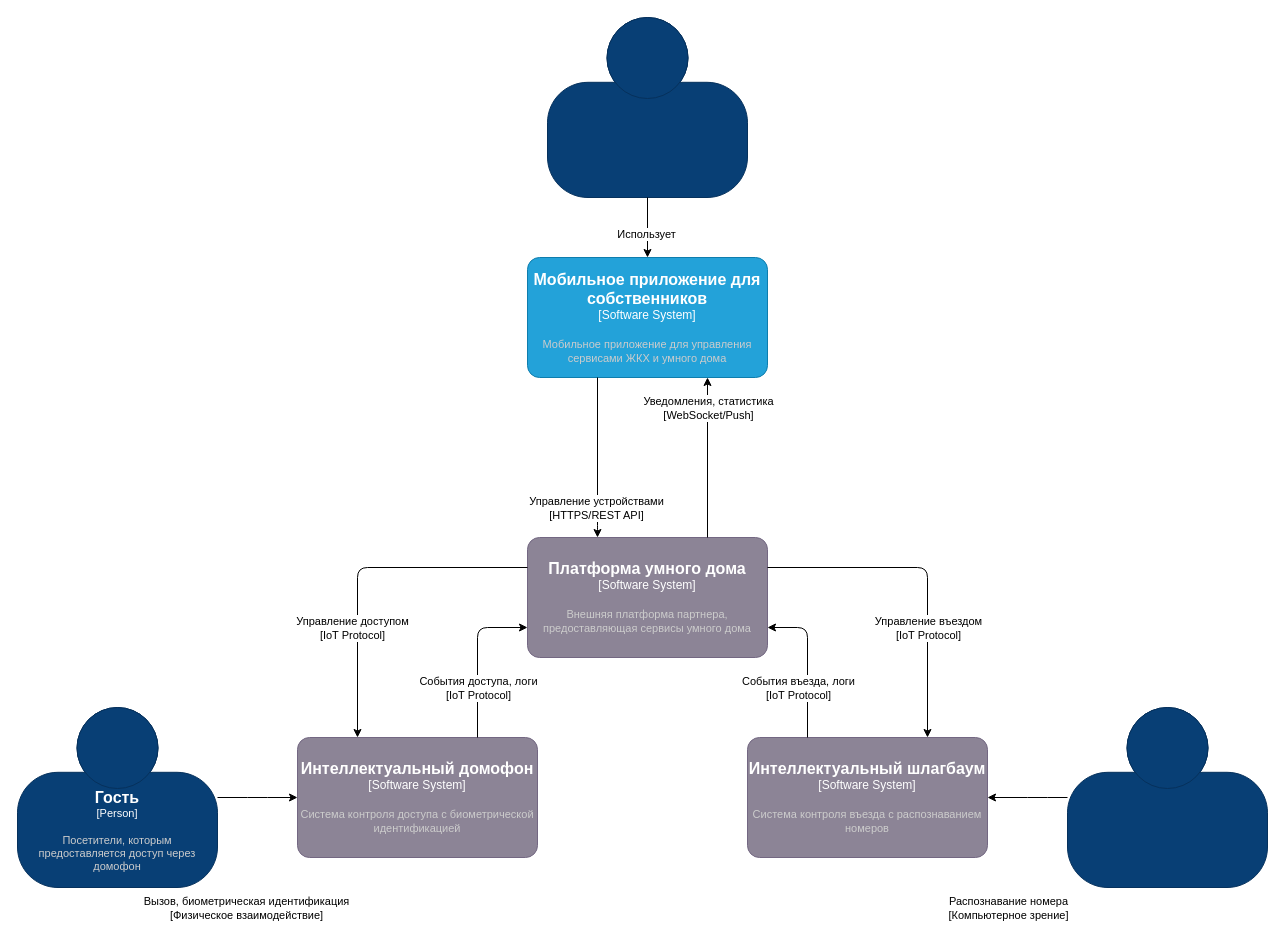
Some shapes in this 1285 by 938 pixel diagram are drawn without their labels. Each missing label, with the centre of its shape:
Водители [Person] Владельцы автомобилей, которым разрешен въезд на территорию: the point at 1167,797
Собственник [Person] Жилец дома, пользователь мобильного приложения: the point at 647,107
